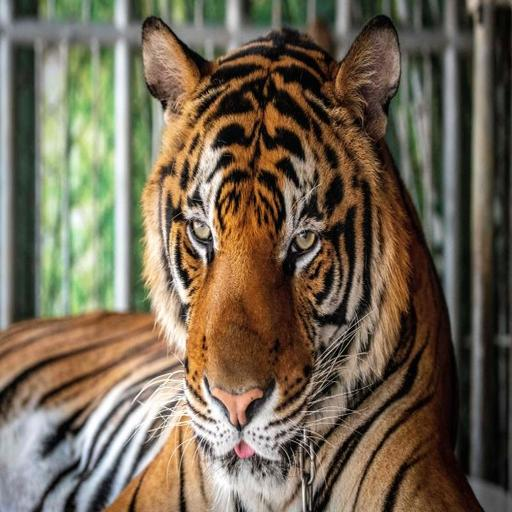Tiger: (0, 12, 493, 512)
